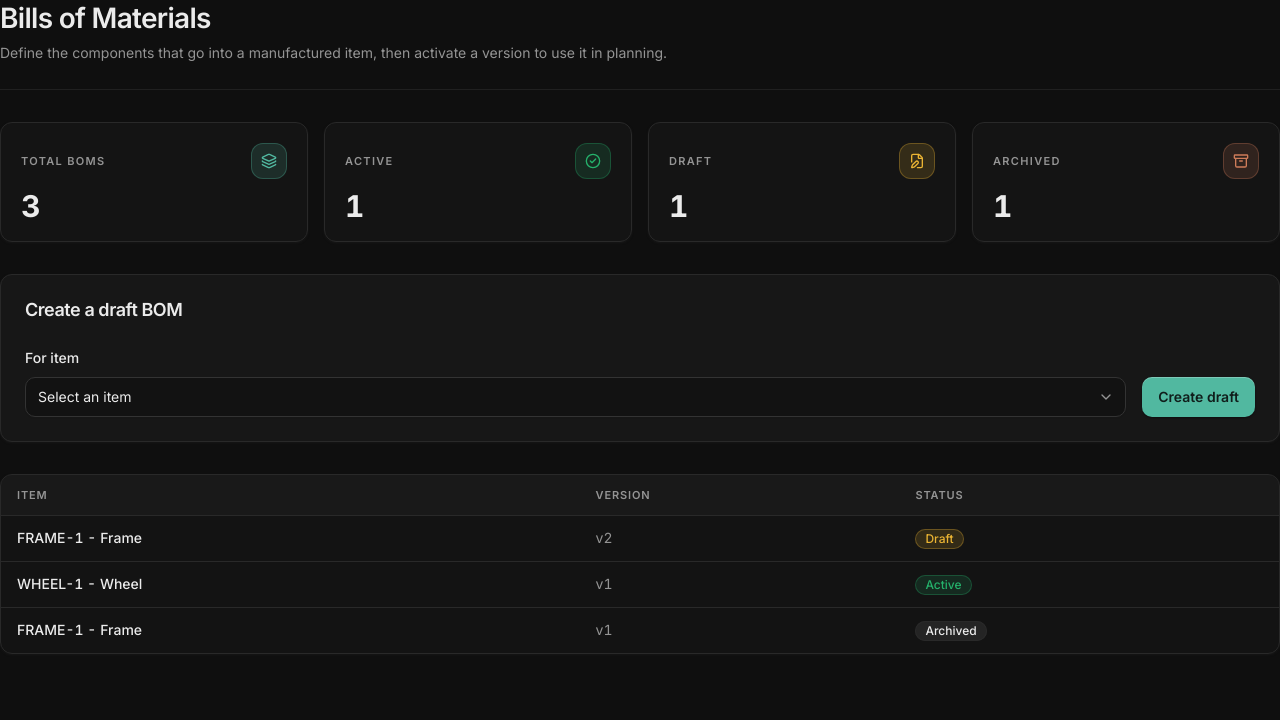
Test: Boms › shows the server error when creating a draft fails
This screenshot has width=1280, height=720.
Expected: the text "v2" is shown, [580,515,899,561]
Step 1. Select "FRAME-1 - Frame" in the dropdown labelled "For item" → point(576, 397), box [25,377,1126,417]
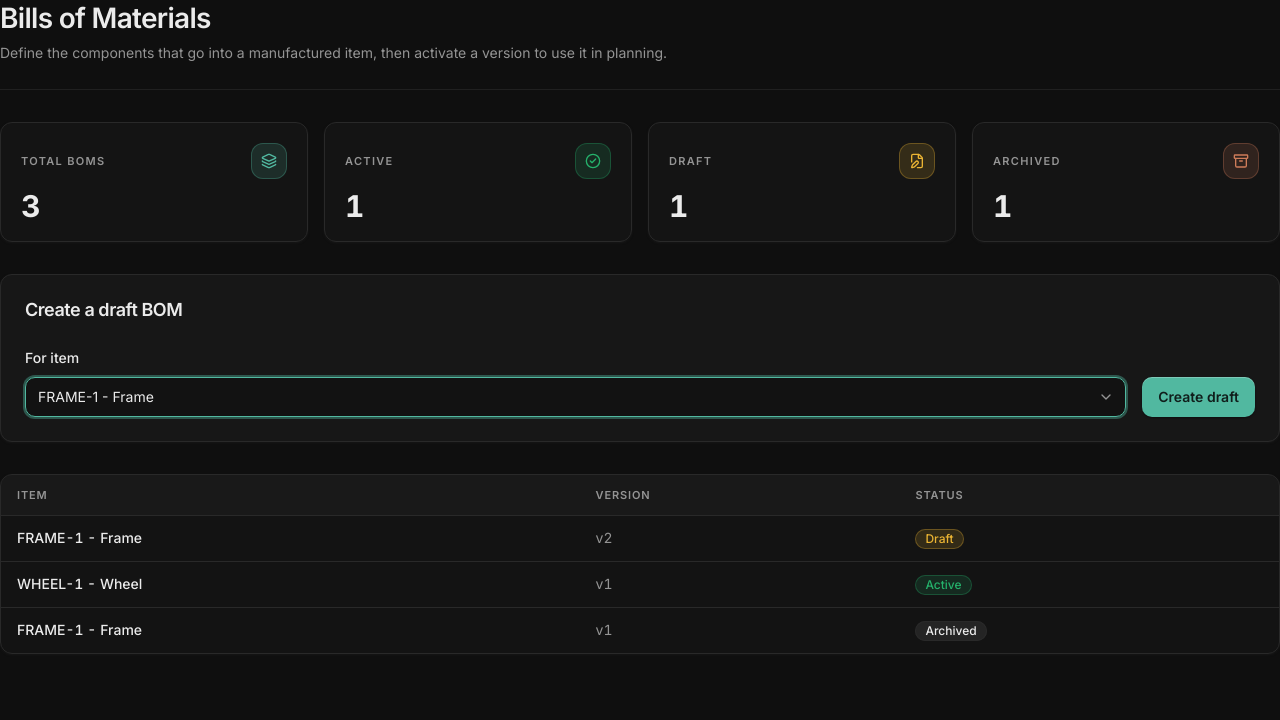
Step 2. Click the button "Create draft" → point(1199, 397), box [1142,377,1255,417]
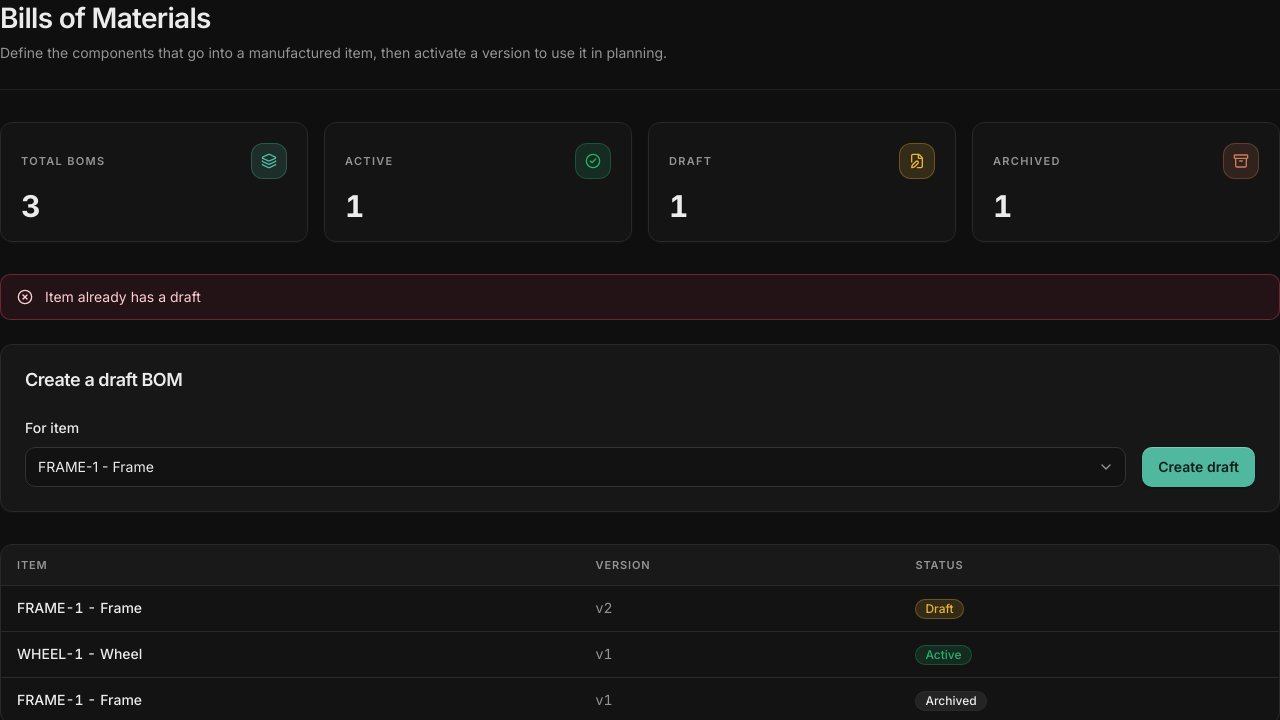
Expected: the text "Item already has a draft" is shown, [45,287,201,307]
